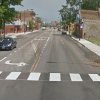crosswalk: (0, 72, 98, 81)
